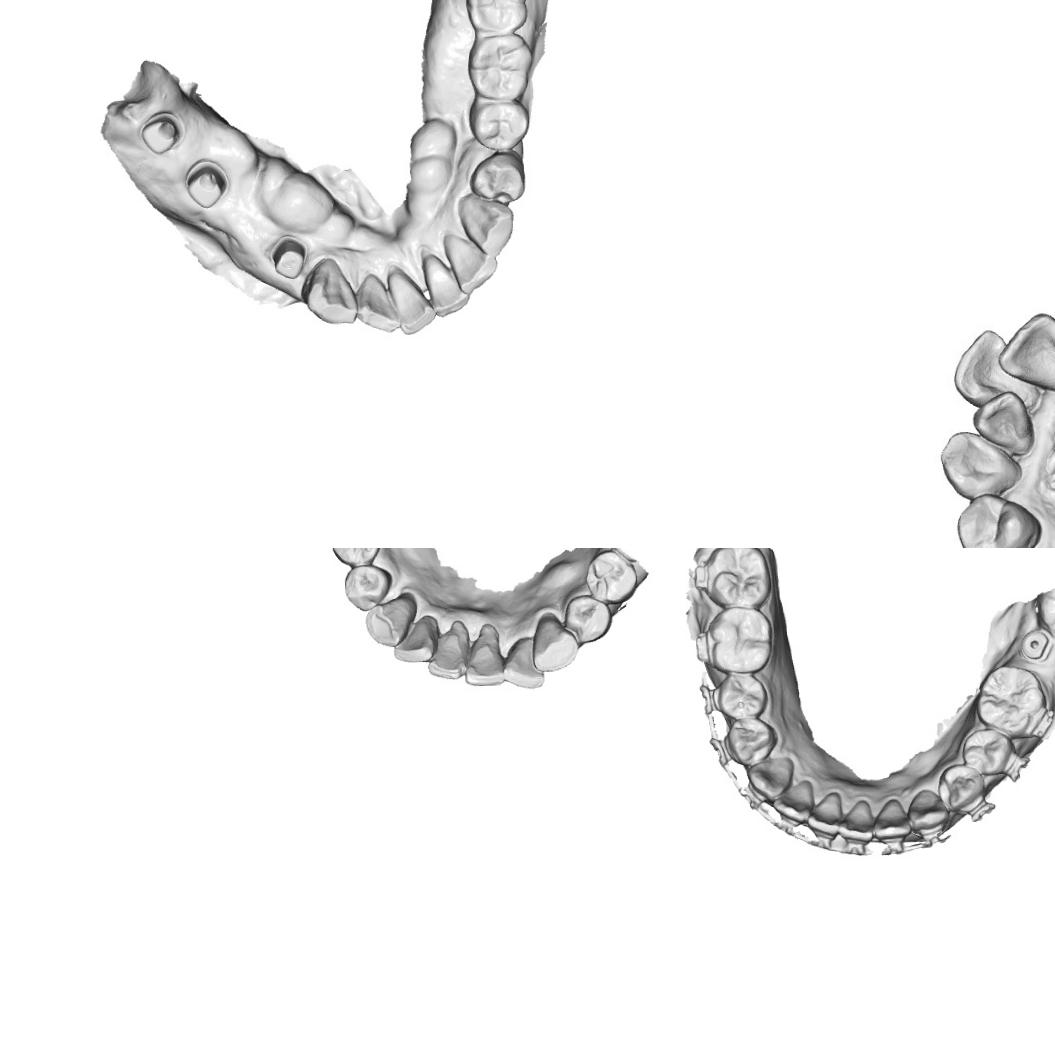abutment: (182, 156, 230, 210), (137, 110, 184, 157), (268, 233, 310, 280)
canine: (938, 425, 1018, 499), (299, 256, 360, 327), (455, 189, 516, 258), (530, 612, 580, 674), (363, 595, 418, 649), (744, 754, 796, 801), (905, 786, 951, 832)
implant: (1018, 626, 1054, 663)
incisor: (954, 331, 1015, 399), (440, 230, 498, 296), (978, 390, 1034, 458), (386, 262, 437, 336), (1004, 316, 1055, 388), (420, 252, 470, 317), (353, 271, 402, 336), (501, 633, 545, 691), (426, 626, 470, 682), (463, 633, 506, 688), (391, 615, 439, 664), (770, 778, 816, 825), (804, 789, 844, 838), (870, 796, 912, 842), (836, 798, 874, 844)
molar: (974, 662, 1048, 739), (703, 606, 776, 676), (464, 34, 536, 101), (702, 548, 773, 610), (464, 0, 530, 36)
premolar: (959, 495, 1037, 548), (466, 92, 532, 152), (467, 150, 527, 204), (584, 548, 639, 606), (959, 727, 1015, 778), (724, 717, 780, 766), (562, 592, 614, 644), (716, 670, 770, 720), (936, 762, 988, 812), (342, 563, 393, 613), (328, 548, 383, 568)
